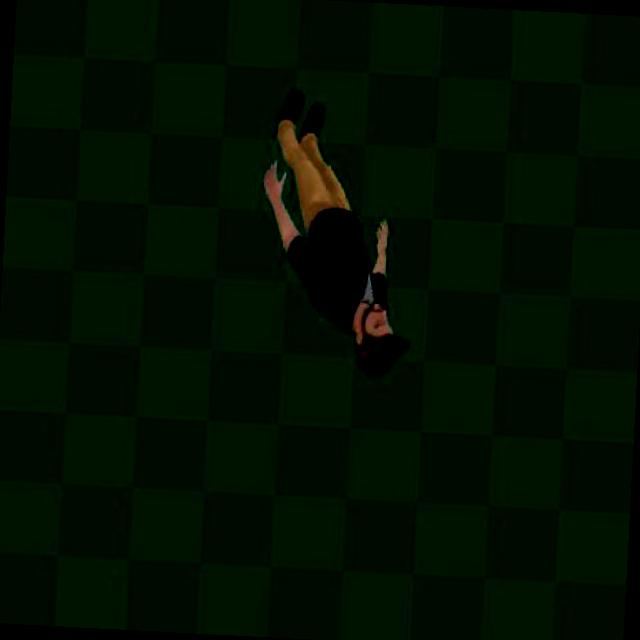Person: (248, 82, 423, 379)
